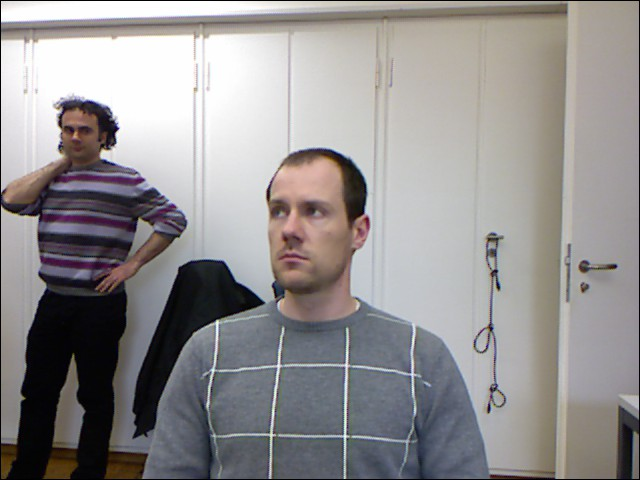deflection: (158, 141, 491, 446)
